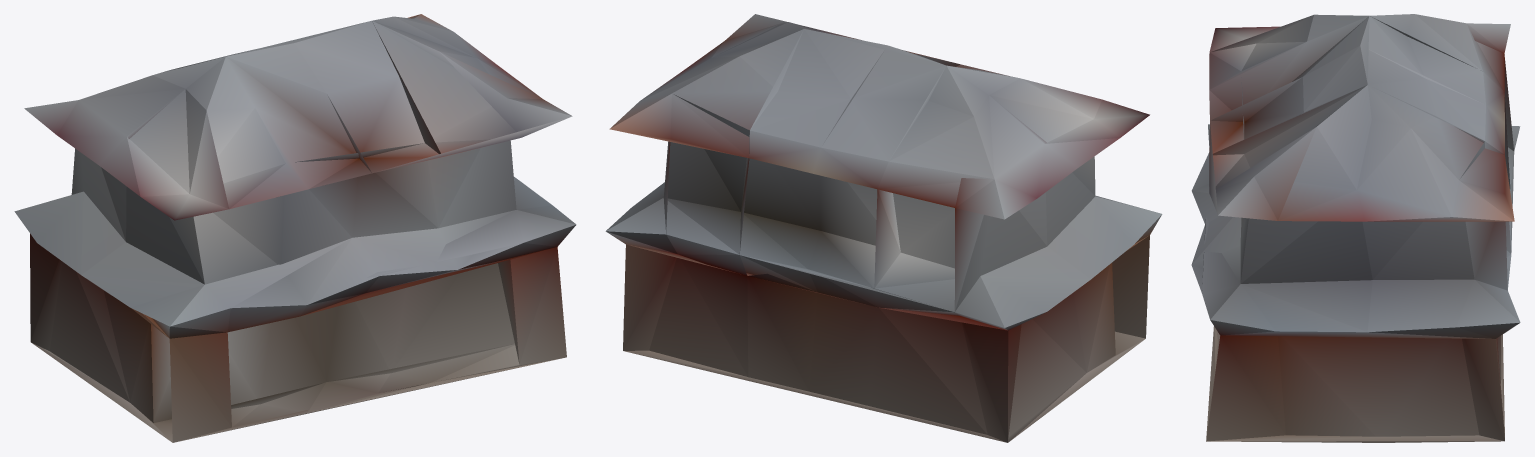
Rendered from hall2_lod2.glb.
3 renders of one model, left to right at view 1: azimuth 30°, elevation 25°; view 2: azimuth 150°, elevation 25°; view 3: azimuth 270°, elevation 25°, orthographic.
Parts seen in each view (by area): view 1: geometry_0; view 2: geometry_0; view 3: geometry_0.
Part boxes in pixels (x1,y1,x2,y2): geometry_0: (14, 14, 576, 442); geometry_0: (605, 14, 1162, 442); geometry_0: (1191, 14, 1520, 442).
Size of the model in its own units: 0.9177 by 0.6356 by 0.6194.
